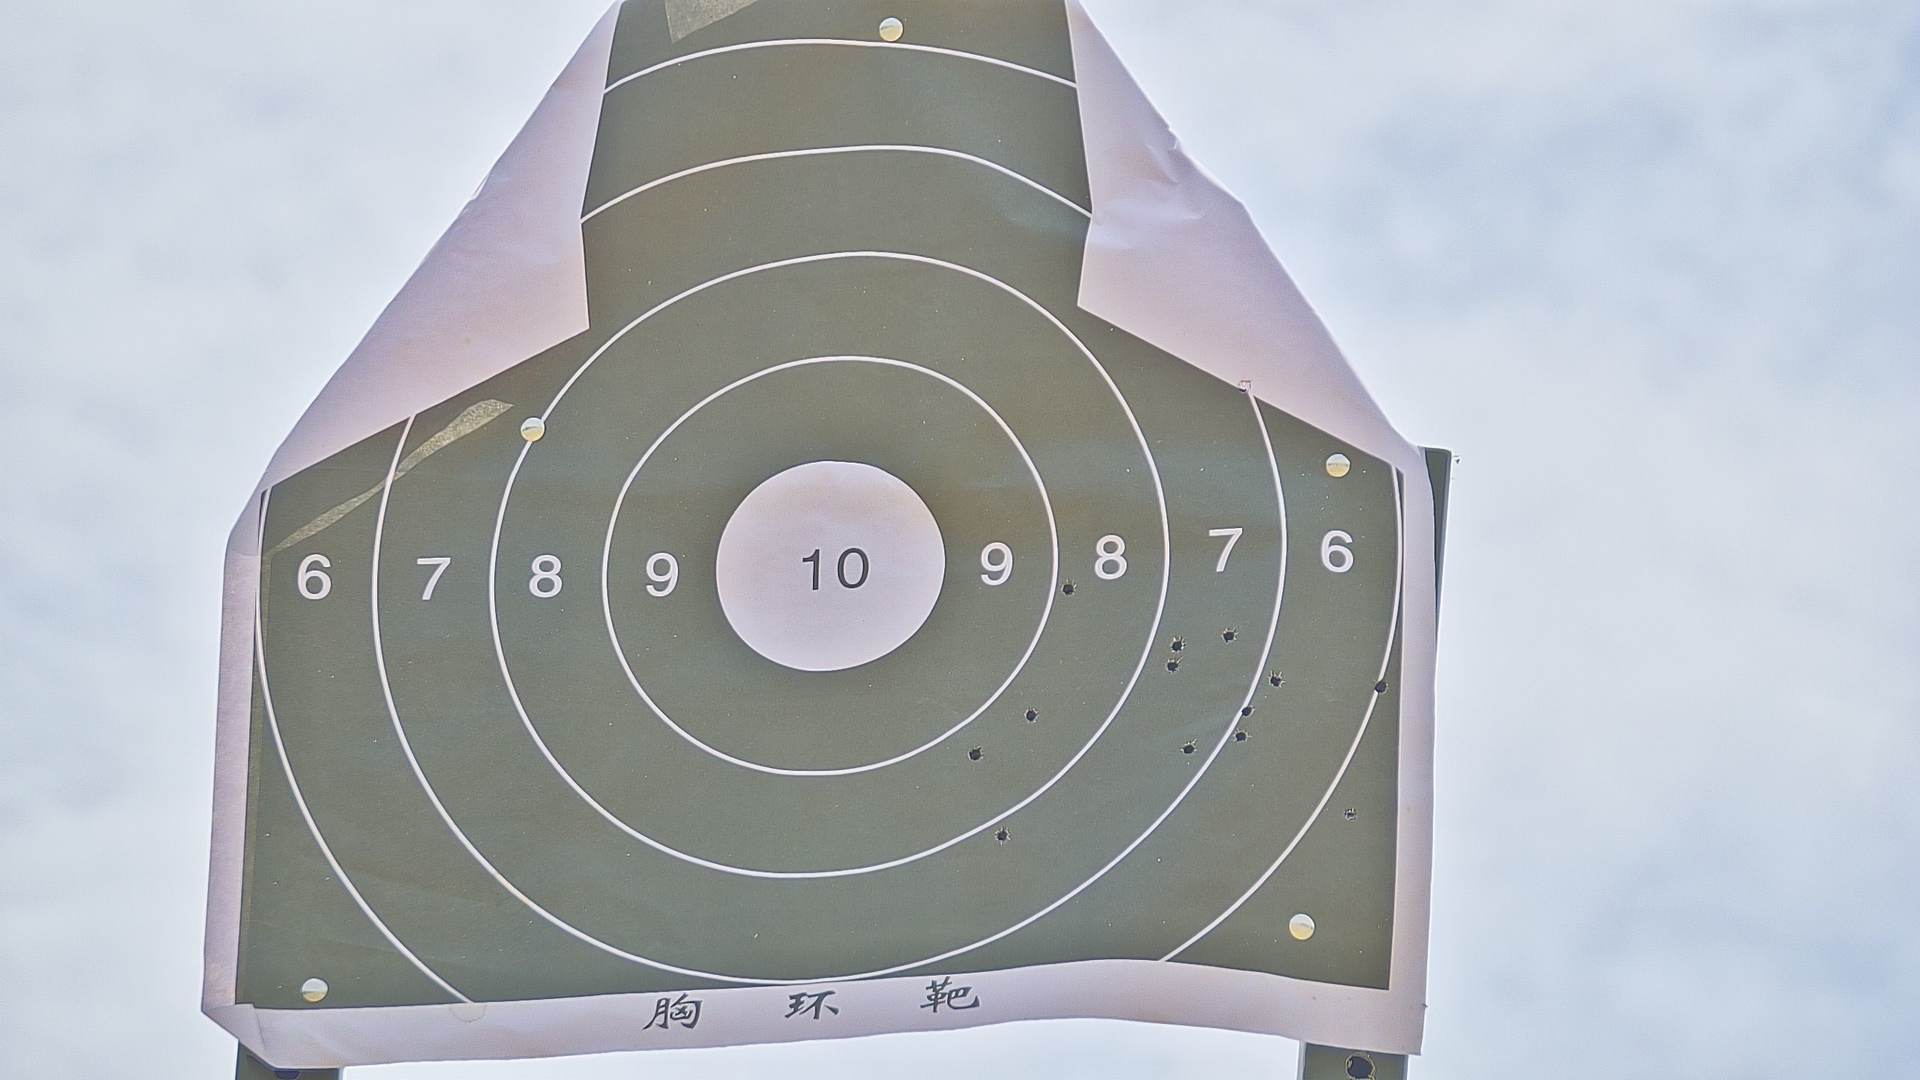hole: (1025, 707, 1040, 723), (1342, 806, 1357, 823), (967, 746, 982, 761), (1062, 582, 1075, 597), (1270, 674, 1284, 687), (1182, 742, 1196, 756), (1222, 629, 1236, 642), (996, 828, 1007, 843), (1167, 659, 1179, 674), (1240, 705, 1254, 717), (1234, 731, 1249, 742), (1172, 638, 1184, 651), (1375, 680, 1386, 694)
kernel: (827, 568, 832, 572)
target: (233, 1, 1402, 1009)
ten: (712, 460, 948, 671)
